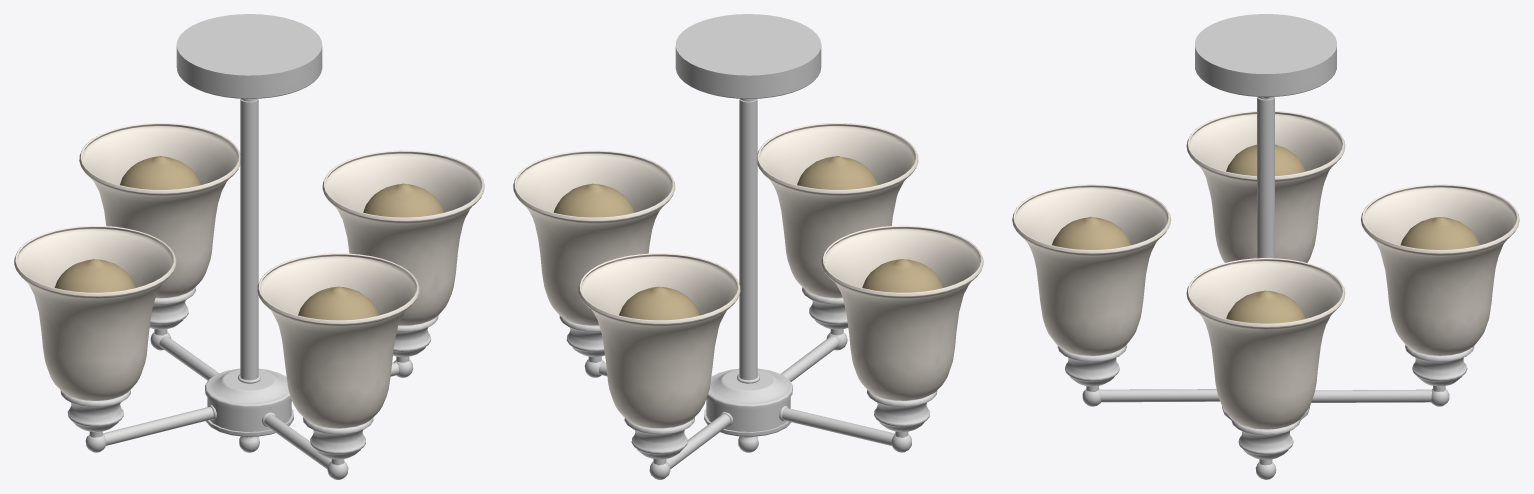
File: abo-B07MBFDQG8.glb
3 renders of one model, left to right at view 1: azimuth 30°, elevation 25°; view 2: azimuth 150°, elevation 25°; view 3: azimuth 270°, elevation 25°, orthographic. The views are drawn at different scales.
Bounding box in the file's own units: 0.427 × 0.37 × 0.427.
1 material, 1 textured.
